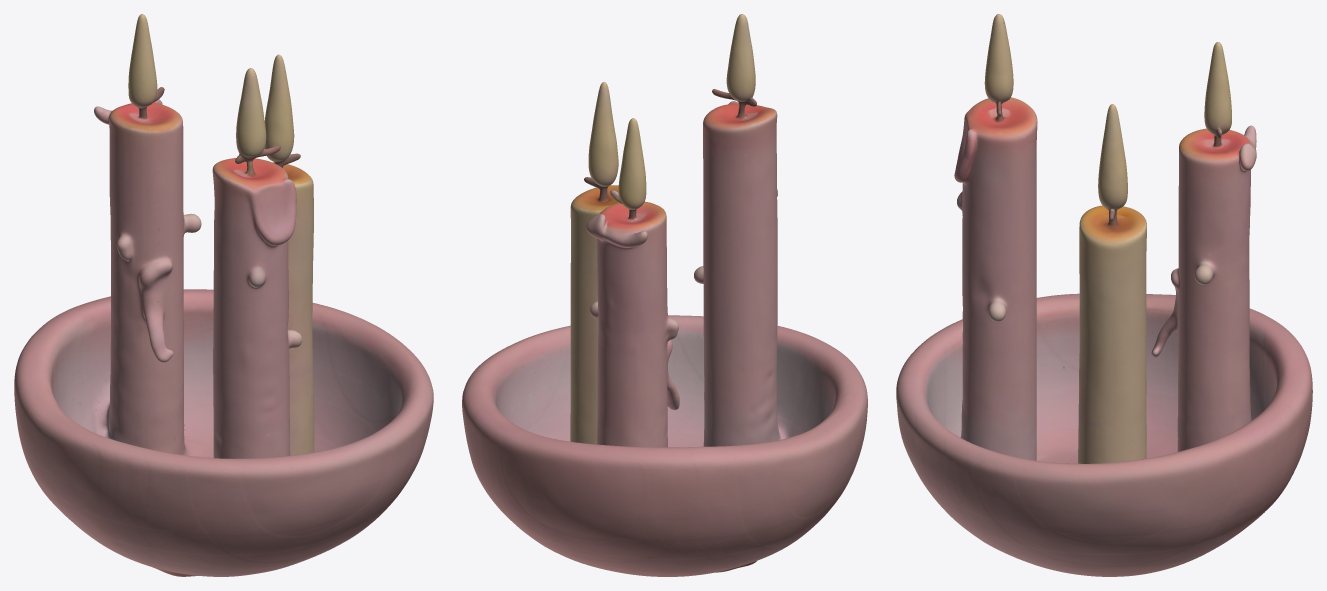
The model's file is detailed_realistic_model_floatingcandles_25.glb.
3 renders of one model, left to right at view 1: azimuth 30°, elevation 25°; view 2: azimuth 150°, elevation 25°; view 3: azimuth 270°, elevation 25°, orthographic. The views are drawn at different scales.
Parts seen in each view (by area): view 1: tripo_node_8617ec6e-bcf7-46ae-b886-ad12b44f9ff5; view 2: tripo_node_8617ec6e-bcf7-46ae-b886-ad12b44f9ff5; view 3: tripo_node_8617ec6e-bcf7-46ae-b886-ad12b44f9ff5.
Part boxes in pixels (left/top/right/bottom): tripo_node_8617ec6e-bcf7-46ae-b886-ad12b44f9ff5: left=14, top=14, right=433, bottom=576; tripo_node_8617ec6e-bcf7-46ae-b886-ad12b44f9ff5: left=462, top=14, right=867, bottom=576; tripo_node_8617ec6e-bcf7-46ae-b886-ad12b44f9ff5: left=896, top=14, right=1312, bottom=576.
Bounding box in the file's own units: 0.7402 × 1 × 0.7393.
Materials: 1 (1 with a texture image).
